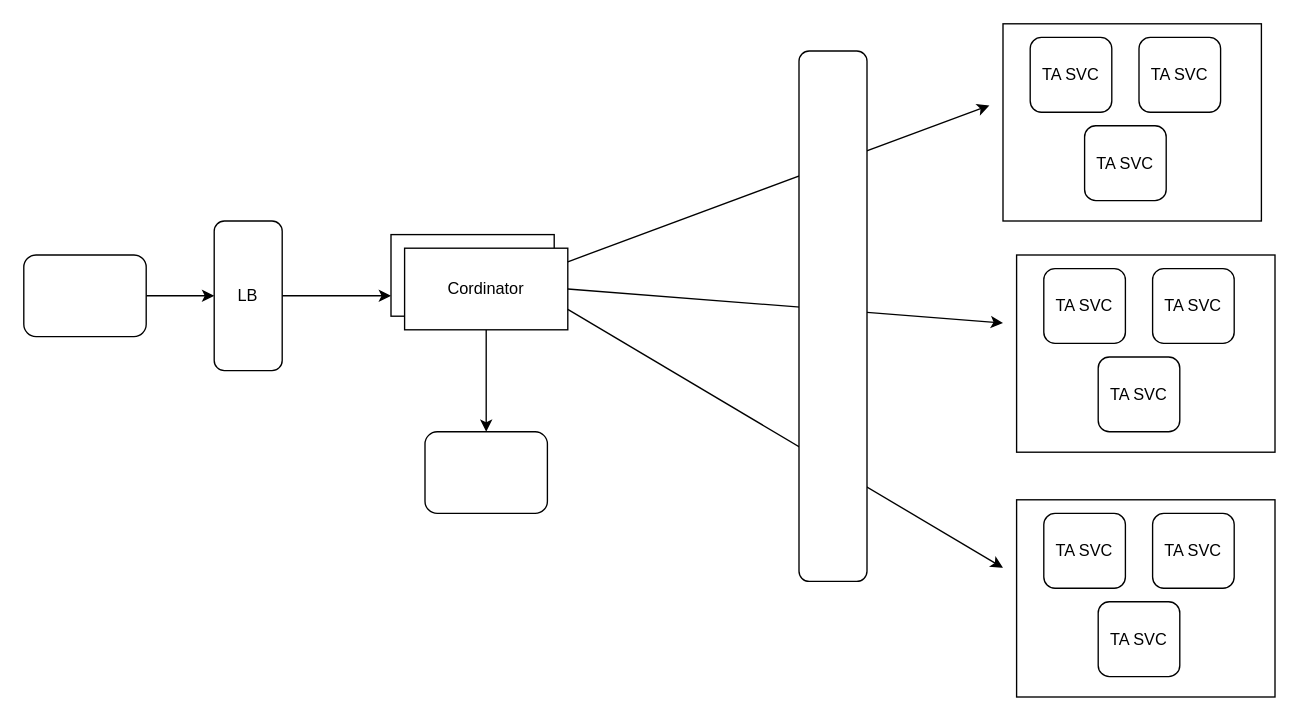
Some shapes in this 1299 by 721 pixel diagram are drawn without their labels. The centre of each missing label's shape, as x and y in pixels:
Client: [84,295]
L O A D B A L A N C E R: [832,315]
ZK: [485,471]
